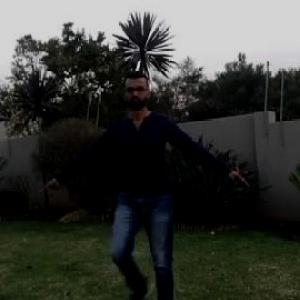land: (77, 91, 221, 269)
